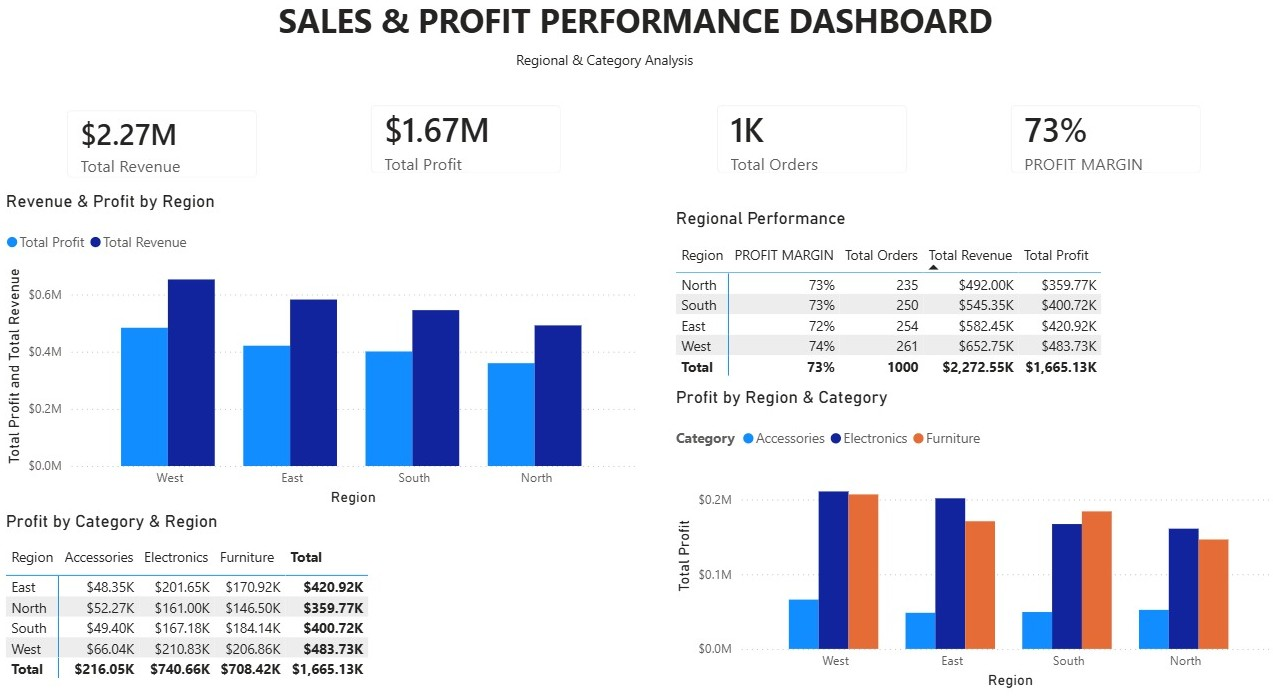

The page's visual inventory and layout, read from the dashboard file:
{"tool":"powerbi","page":{"name":"რეგიონებისა და კატეგორიების ანალიზი","canvas":[1280,720],"ordinal":0},"visuals":[{"type":"cardVisual","fields":{"Data":["Transactions.Total Revenue"]},"box":[67.3,97.8,220,100],"z":0},{"type":"cardVisual","fields":{"Data":["Transactions.Total Profit"]},"box":[364.4,92.9,220,100],"z":1000},{"type":"cardVisual","fields":{"Data":["Transactions.Total Orders"]},"box":[703.1,92.9,220,100],"z":2000},{"type":"clusteredColumnChart","title":"Revenue & Profit by Region","fields":{"Category":["Transactions.Region"],"Y":["Transactions.Total Profit","Transactions.Total Revenue"]},"box":[19.6,193.2,624.9,313],"z":3000},{"type":"pivotTable","title":"Regional Performance","fields":{"Rows":["Transactions.Region"],"Values":["Transactions.PROFIT MARGIN","Transactions.Total Orders","Transactions.Total Revenue","Transactions.Total Profit"]},"box":[675,210,600,170],"z":4000},{"type":"clusteredColumnChart","title":"Profit by Region & Category","fields":{"Category":["Transactions.Region"],"Series":["Transactions.Category"],"Y":["Transactions.Total Profit"]},"box":[675,385,600,300],"z":5000},{"type":"pivotTable","title":"Profit by Category & Region","fields":{"Rows":["Transactions.Region"],"Columns":["Transactions.Category"],"Values":["Transactions.Total Profit"]},"box":[19.6,506.3,439,200.5],"z":6000},{"type":"textbox","box":[0,0,1280.3,97.8],"z":7000},{"type":"textbox","box":[518.5,51.4,184.6,35.5],"z":8000},{"type":"cardVisual","fields":{"Data":["Transactions.PROFIT MARGIN"]},"box":[990.5,92.9,220,100],"z":9000}]}

Visuals, with their boxes in screenshot pixels (x1, y1, x2, y2), scaled from the page's 1280x720 canvas onto the 1273x699 screenshot:
cardVisual - Transactions.Total Revenue: bbox=(67, 95, 286, 192)
cardVisual - Transactions.Total Profit: bbox=(362, 90, 581, 187)
cardVisual - Transactions.Total Orders: bbox=(699, 90, 918, 187)
"Revenue & Profit by Region" clusteredColumnChart: bbox=(19, 188, 641, 491)
"Regional Performance" pivotTable: bbox=(671, 204, 1268, 369)
"Profit by Region & Category" clusteredColumnChart: bbox=(671, 374, 1268, 665)
"Profit by Category & Region" pivotTable: bbox=(19, 492, 456, 686)
textbox: bbox=(0, 0, 1272, 95)
textbox: bbox=(516, 50, 699, 84)
cardVisual - Transactions.PROFIT MARGIN: bbox=(985, 90, 1204, 187)
